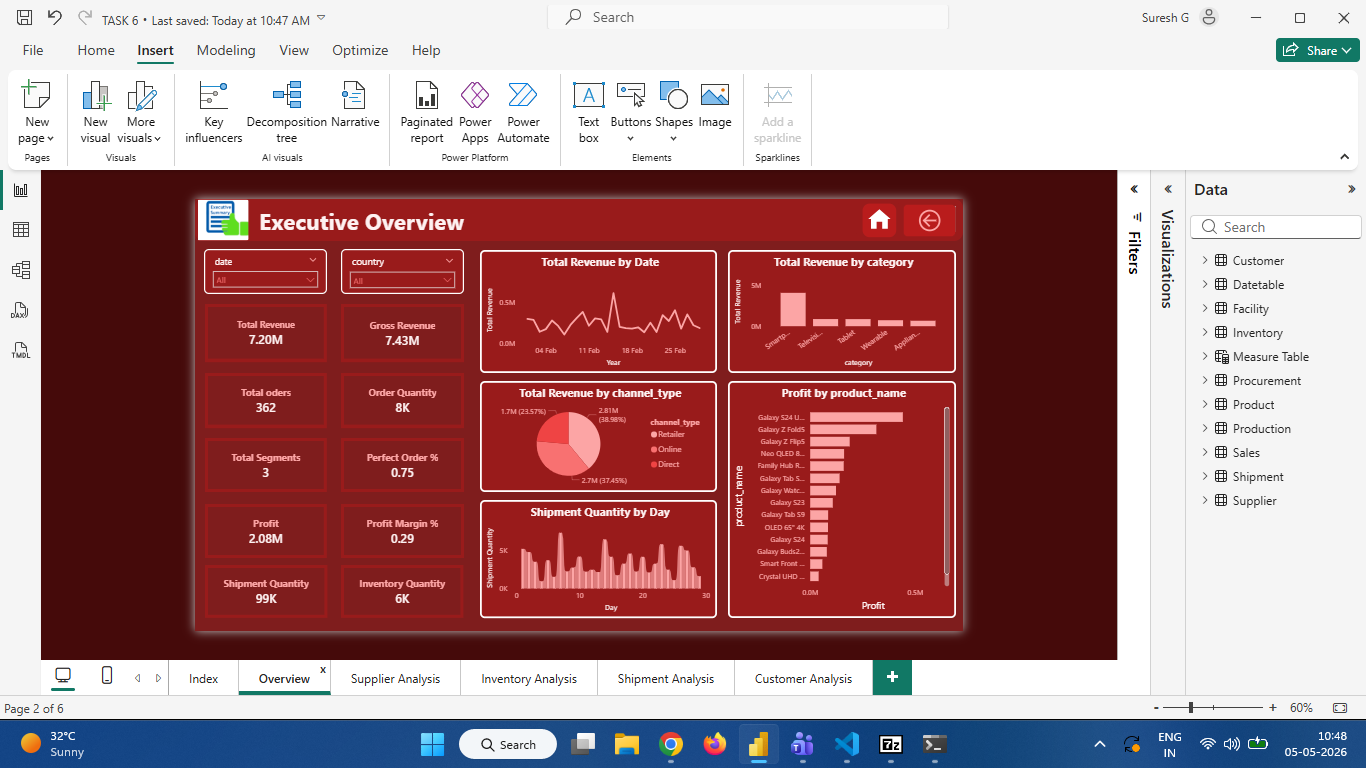

This screenshot's page, from the dashboard's own definition file:
{"tool":"powerbi","page":{"name":"Overview","canvas":[1280,720],"ordinal":1},"visuals":[{"type":"cardVisual","fields":{"Data":["Measure Table.Total Revenue"]},"box":[16.7,175,203.3,96.7],"z":0},{"type":"cardVisual","fields":{"Data":["Measure Table.Profit"]},"box":[16.7,508.3,203.3,90],"z":1},{"type":"cardVisual","fields":{"Data":["Measure Table.Profit Margin %"]},"box":[243.3,508.3,205,90],"z":2},{"type":"cardVisual","fields":{"Data":["Measure Table.Perfect Order %"]},"box":[243.3,398.3,205,90],"z":3},{"type":"cardVisual","fields":{"Data":["Measure Table.Total Segments"]},"box":[16.7,398.3,203.3,90],"z":4},{"type":"cardVisual","fields":{"Data":["Measure Table.Gross Revenue"]},"box":[243.3,175,205,96.7],"z":5},{"type":"cardVisual","fields":{"Data":["Measure Table.Order Quantity"]},"box":[243.3,290,205,91.7],"z":6},{"type":"cardVisual","fields":{"Data":["Measure Table.Inventory Quantity"]},"box":[243.9,609.8,204.2,88.2],"z":7},{"type":"cardVisual","fields":{"Data":["Measure Table.Shipment Quantity"]},"box":[16.2,609.8,204.2,88.2],"z":8},{"type":"cardVisual","fields":{"Data":["Measure Table.Total oders"]},"box":[16.7,290,203.3,91.7],"z":9},{"type":"slicer","fields":{"Values":["Datetable.date"]},"box":[15,83.3,205,75],"z":10},{"type":"slicer","fields":{"Values":["Customer.country"]},"box":[243.3,83.3,205,75],"z":11},{"type":"textbox","box":[0,0,1280,70],"z":12},{"type":"lineChart","title":"Total Revenue by Date","fields":{"Y":["Measure Table.Total Revenue"],"Category":["Datetable.date.Variation.Date Hierarchy.Year","Datetable.date.Variation.Date Hierarchy.Quarter","Datetable.date.Variation.Date Hierarchy.Month","Datetable.date.Variation.Date Hierarchy.Day"]},"box":[475,85,395,205],"z":13},{"type":"clusteredColumnChart","fields":{"Category":["Product.category"],"Y":["Measure Table.Total Revenue"]},"box":[888.3,85,380,205],"z":14},{"type":"pieChart","fields":{"Y":["Measure Table.Total Revenue"],"Category":["Customer.channel_type"]},"box":[475,303.3,395,185],"z":15},{"type":"barChart","fields":{"Category":["Product.product_name"],"Y":["Measure Table.Profit"]},"box":[888.3,303.3,380,395],"z":16},{"type":"ribbonChart","fields":{"Y":["Measure Table.Shipment Quantity"],"Category":["Datetable.date.Variation.Date Hierarchy.Year","Datetable.date.Variation.Date Hierarchy.Quarter","Datetable.date.Variation.Date Hierarchy.Month","Datetable.date.Variation.Date Hierarchy.Day"]},"box":[475,501.7,395,196.7],"z":17},{"type":"image","box":[0,0,93.3,70],"z":18},{"type":"actionButton","box":[1180,8.3,88.3,55],"z":19},{"type":"image","box":[1101.7,6.7,78.3,58.3],"z":20}]}

Visuals, with their boxes on the page's 1280x720 design canvas (x1, y1, x2, y2). These are canvas units, not pixel positions in the 1366x768 screenshot, which may show the page scaled, cropped or inside an application window:
cardVisual - Measure Table.Total Revenue: {"left": 17, "top": 175, "right": 220, "bottom": 272}
cardVisual - Measure Table.Profit: {"left": 17, "top": 508, "right": 220, "bottom": 598}
cardVisual - Measure Table.Profit Margin %: {"left": 243, "top": 508, "right": 448, "bottom": 598}
cardVisual - Measure Table.Perfect Order %: {"left": 243, "top": 398, "right": 448, "bottom": 488}
cardVisual - Measure Table.Total Segments: {"left": 17, "top": 398, "right": 220, "bottom": 488}
cardVisual - Measure Table.Gross Revenue: {"left": 243, "top": 175, "right": 448, "bottom": 272}
cardVisual - Measure Table.Order Quantity: {"left": 243, "top": 290, "right": 448, "bottom": 382}
cardVisual - Measure Table.Inventory Quantity: {"left": 244, "top": 610, "right": 448, "bottom": 698}
cardVisual - Measure Table.Shipment Quantity: {"left": 16, "top": 610, "right": 220, "bottom": 698}
cardVisual - Measure Table.Total oders: {"left": 17, "top": 290, "right": 220, "bottom": 382}
slicer - Datetable.date: {"left": 15, "top": 83, "right": 220, "bottom": 158}
slicer - Customer.country: {"left": 243, "top": 83, "right": 448, "bottom": 158}
textbox: {"left": 0, "top": 0, "right": 1280, "bottom": 70}
"Total Revenue by Date" lineChart: {"left": 475, "top": 85, "right": 870, "bottom": 290}
clusteredColumnChart - Product.category x Measure Table.Total Revenue: {"left": 888, "top": 85, "right": 1268, "bottom": 290}
pieChart - Measure Table.Total Revenue x Customer.channel_type: {"left": 475, "top": 303, "right": 870, "bottom": 488}
barChart - Product.product_name x Measure Table.Profit: {"left": 888, "top": 303, "right": 1268, "bottom": 698}
ribbonChart - Measure Table.Shipment Quantity x Datetable.date.Variation.Date Hierarchy.Year: {"left": 475, "top": 502, "right": 870, "bottom": 698}
image: {"left": 0, "top": 0, "right": 93, "bottom": 70}
actionButton: {"left": 1180, "top": 8, "right": 1268, "bottom": 63}
image: {"left": 1102, "top": 7, "right": 1180, "bottom": 65}
